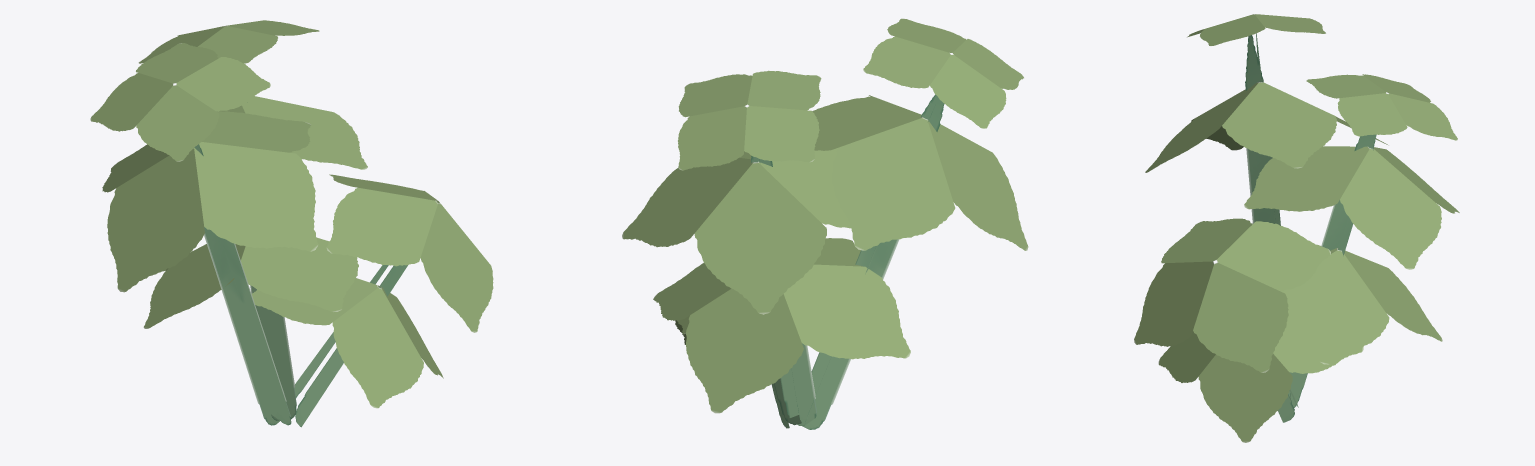
Rendered from Basil.fbx.
3 views of the same model, side by side, from view 1: azimuth 30°, elevation 25°; view 2: azimuth 150°, elevation 25°; view 3: azimuth 270°, elevation 25° (orthographic). The views are drawn at different scales.
Visible parts, largest first — view 1: polySurface413; view 2: polySurface413; view 3: polySurface413.
Part boxes in pixels (<box>): polySurface413: <box>90,20,493,427</box>; polySurface413: <box>622,18,1028,429</box>; polySurface413: <box>1134,14,1459,442</box>.
Size of the model in its own units: 0.535 by 0.5064 by 0.5139.
